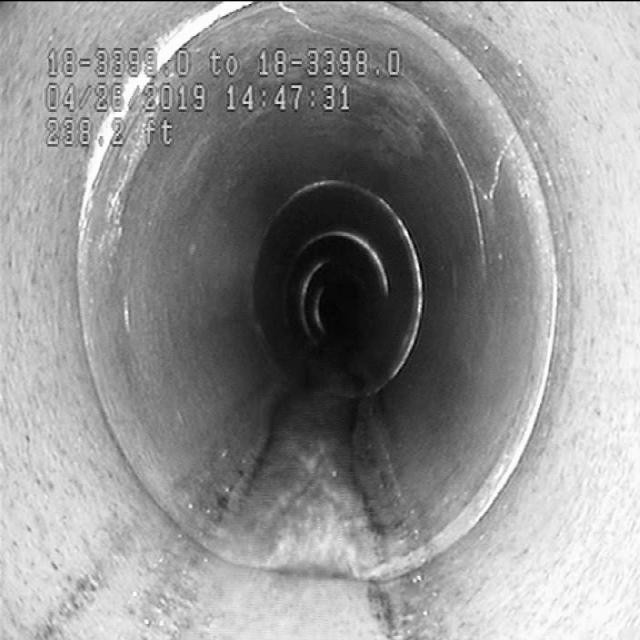Crack: (435, 73, 550, 272)
